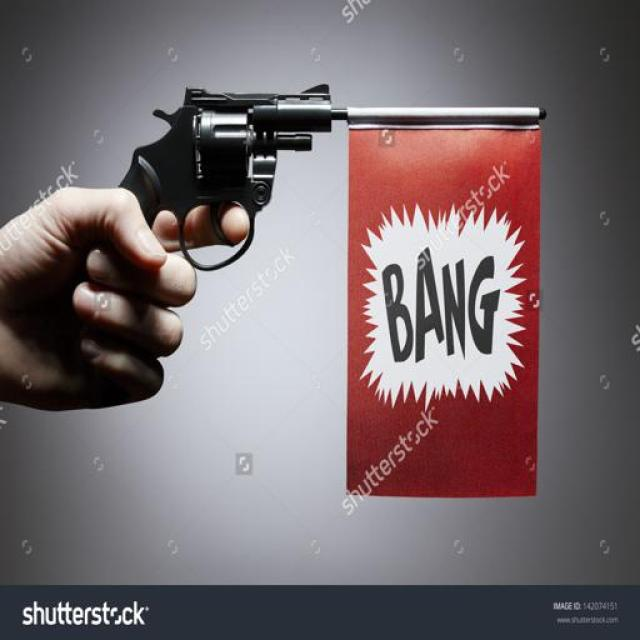pistol: (92, 81, 330, 289)
